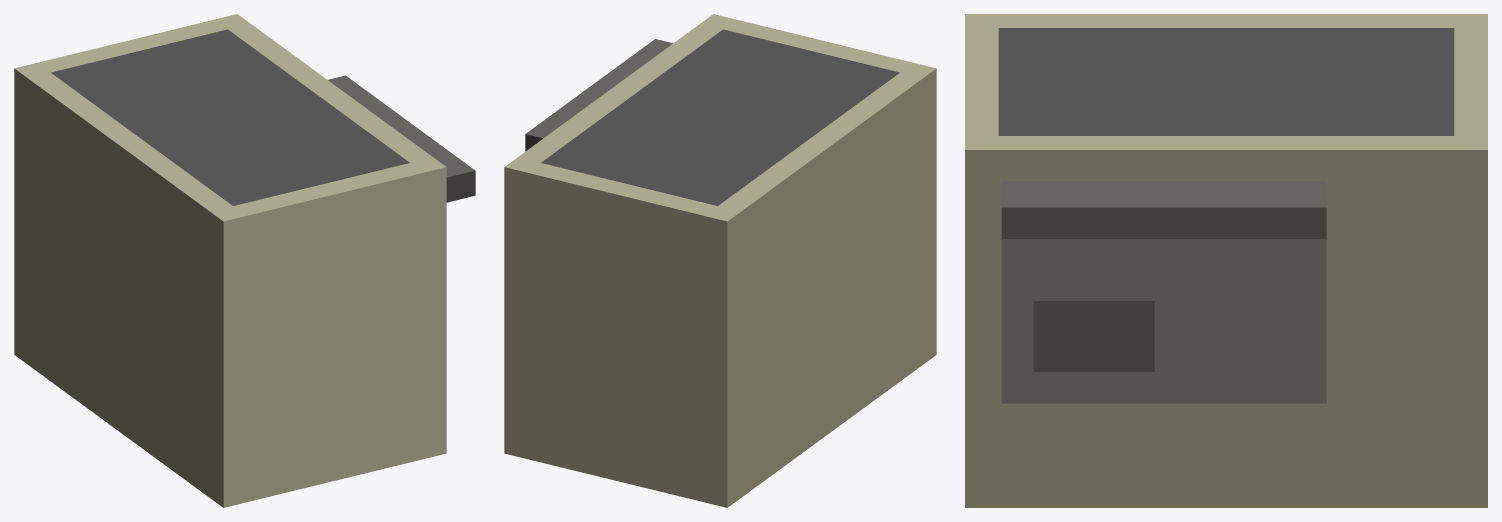
The model's file is SM_Prop_Powerbox_01.fbx.
3 views of the same model, side by side, from view 1: azimuth 30°, elevation 25°; view 2: azimuth 150°, elevation 25°; view 3: azimuth 270°, elevation 25° (orthographic). The views are drawn at different scales.
Visible parts, largest first — view 1: SM_Prop_Powerbox_01; view 2: SM_Prop_Powerbox_01; view 3: SM_Prop_Powerbox_01.
Part boxes in pixels (left/top/right/bottom): SM_Prop_Powerbox_01: left=14, top=14, right=475, bottom=507; SM_Prop_Powerbox_01: left=504, top=14, right=936, bottom=507; SM_Prop_Powerbox_01: left=965, top=14, right=1487, bottom=507.
Bounding box in the file's own units: 2.82 × 2.89 × 3.83.
